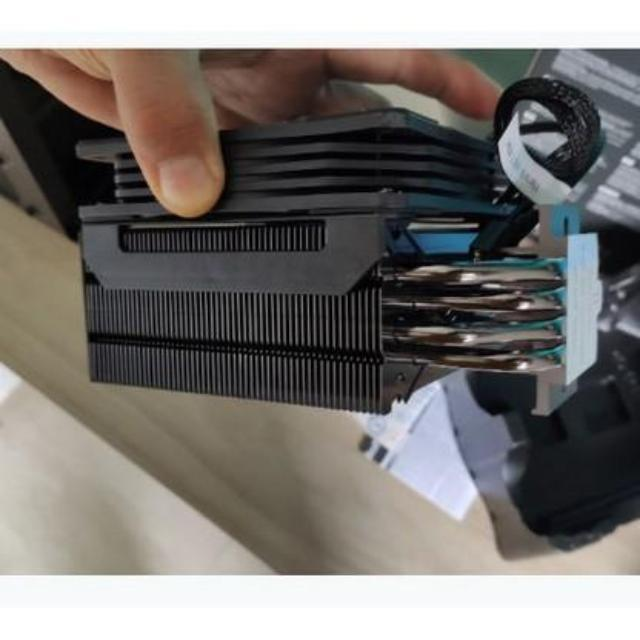CPU_Fan: (74, 120, 597, 412)
